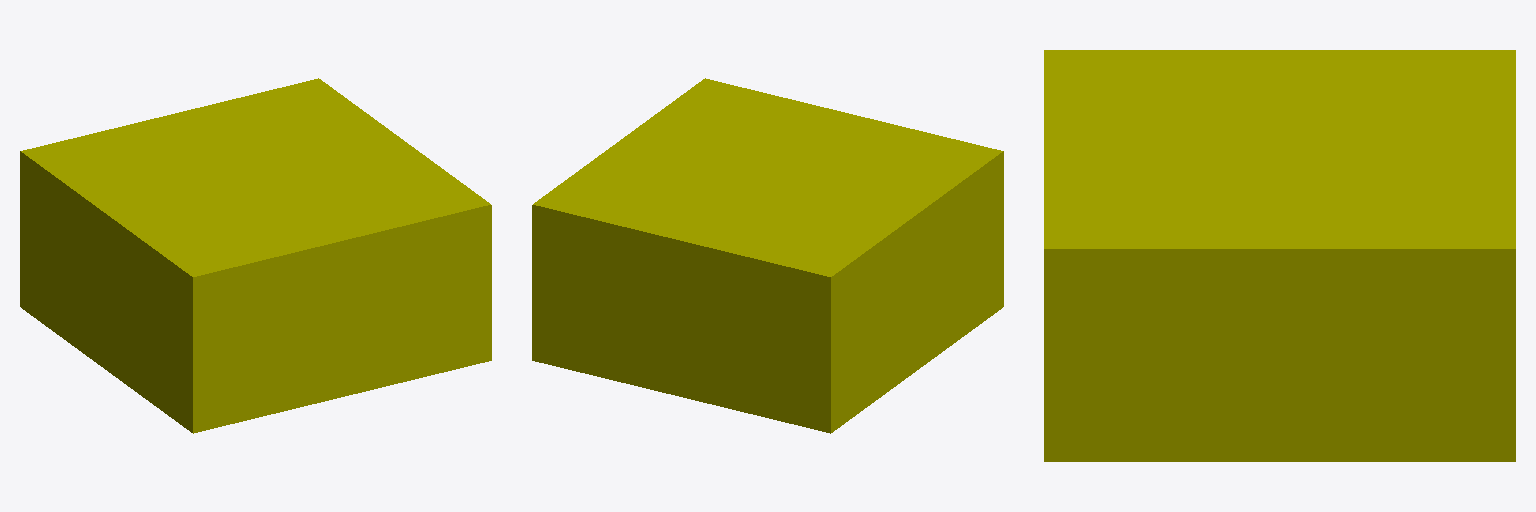
The robot description file, URDF, robot "object":
<?xml version="1.0"?>
<robot name="object">


  <link name="base_link">
    <visual>
      <geometry>
        <box size="0.2 0.2 0.1"/>
      </geometry>
      <material name="grey">
        <color rgba="0.7 0.7 0 1.0"/>
      </material>
    </visual>
    <collision>
      <geometry>
        <box size="0.2 0.2 0.1"/>
      </geometry>
    </collision>
  </link>
  
</robot>

--- What the picture shows (computed from the rendered views, not written in the file) ---
The picture shows the robot from 3 angles, left to right: view 1: azimuth 30°, elevation 25°; view 2: azimuth 150°, elevation 25°; view 3: azimuth 270°, elevation 25°; orthographic projection.
Robot: object — 1 links, 0 joints (none); root link base_link; default pose: all joints at 0.
Links seen in each view (by area): view 1: base_link; view 2: base_link; view 3: base_link.
Link boxes in pixels (<box>): base_link: <box>20,78,491,433</box>; base_link: <box>532,78,1003,433</box>; base_link: <box>1044,50,1515,461</box>.
Size in the robot's own frame: 0.2 by 0.2 by 0.1 metres.
Geometry: primitives only (box / cylinder / sphere), no mesh files.
